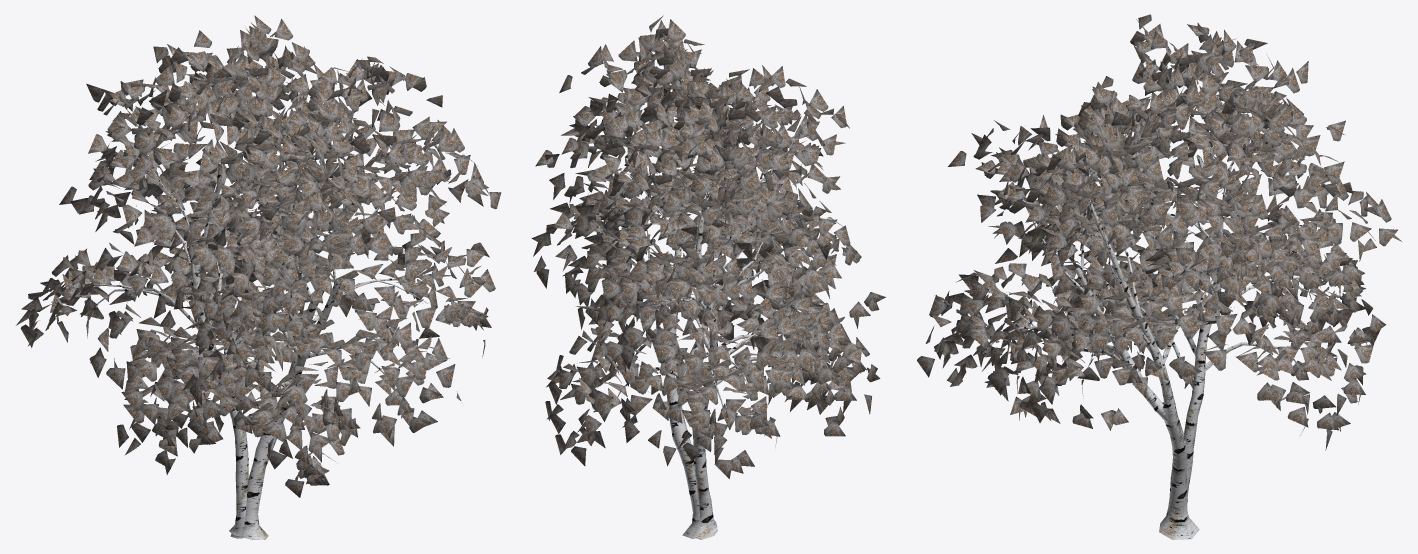
File: defaultbirch.glb
3 views of the same model, side by side, from view 1: azimuth 30°, elevation 25°; view 2: azimuth 150°, elevation 25°; view 3: azimuth 270°, elevation 25° (orthographic). The views are drawn at different scales.
Parts seen in each view (by area): view 1: DefaultBirch; view 2: DefaultBirch; view 3: DefaultBirch.
Boxes of the visible parts, box(x1,y1,x2,y2) form: DefaultBirch: box(16, 15, 501, 539); DefaultBirch: box(531, 15, 885, 539); DefaultBirch: box(917, 14, 1401, 539).
Size of the model in its own units: 13.07 by 17.8 by 15.62.
4 materials, 4 textured.
